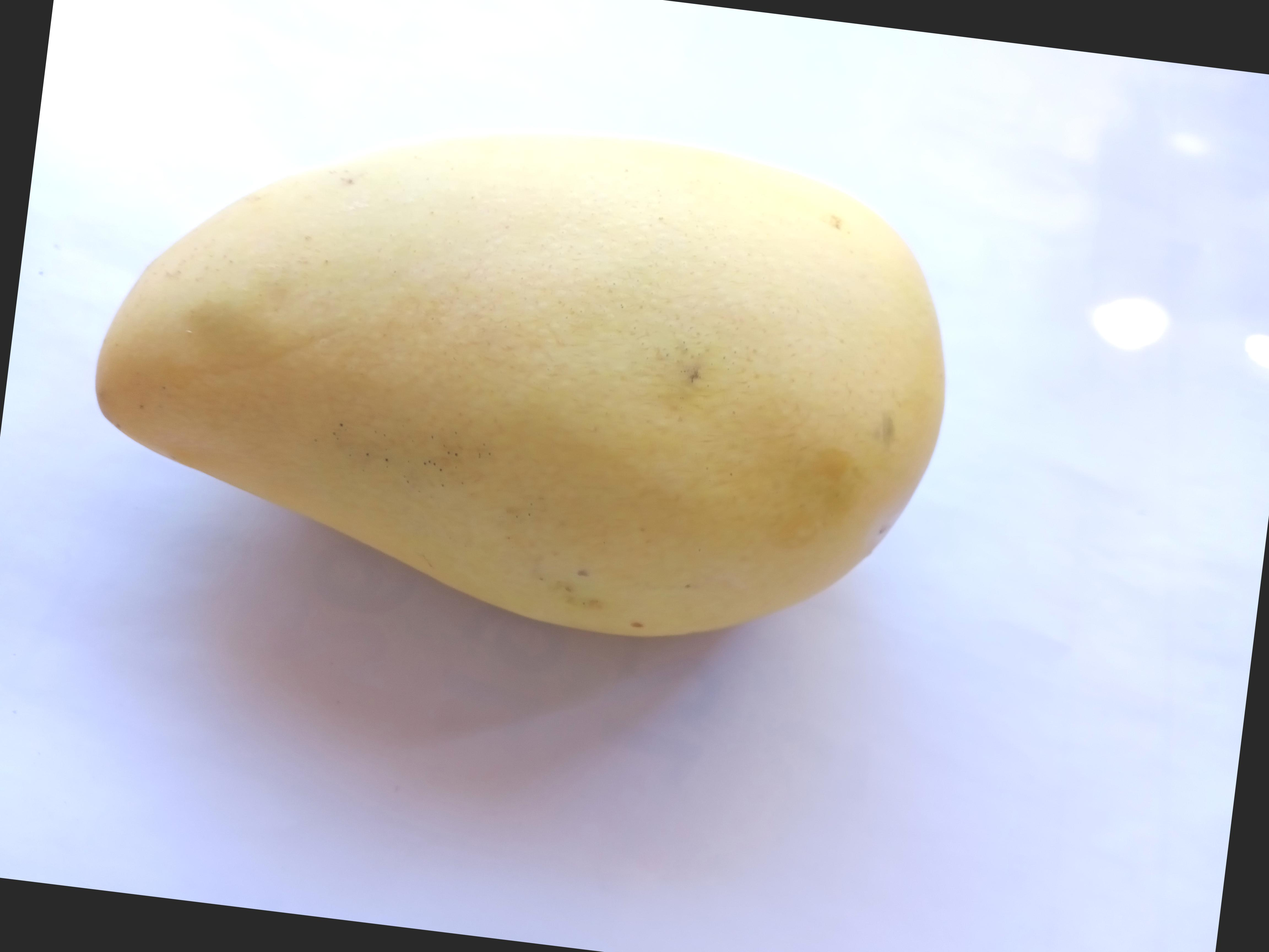Mango Ripe: (100, 0, 1108, 626)
